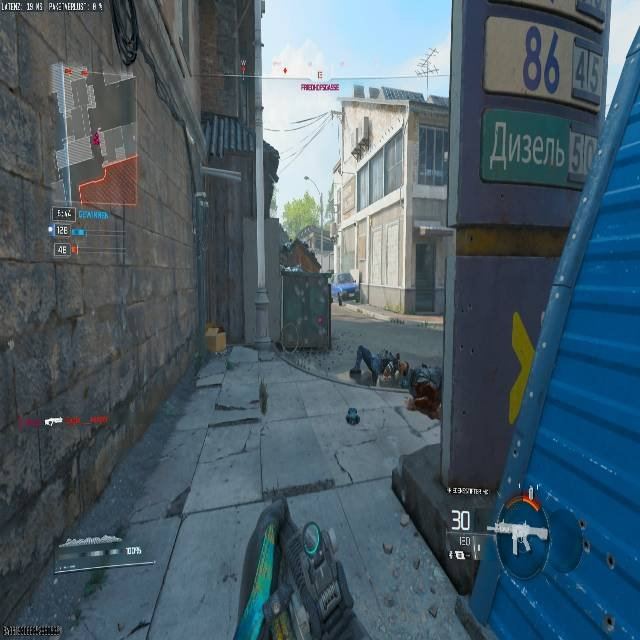head: (396, 360, 409, 376)
